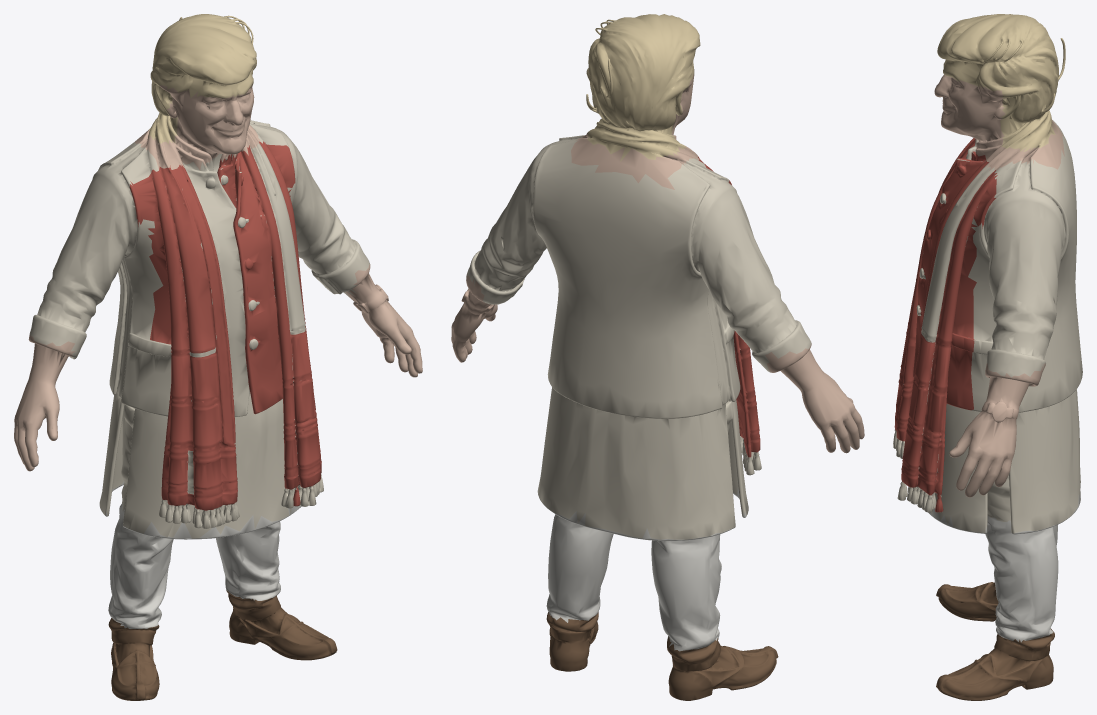
Rendered from heritage_guide.glb.
3 views of the same model, side by side, from view 1: azimuth 30°, elevation 25°; view 2: azimuth 150°, elevation 25°; view 3: azimuth 270°, elevation 25° (orthographic).
Parts seen in each view (by area): view 1: MIRAS_Heritage_Guide; view 2: MIRAS_Heritage_Guide; view 3: MIRAS_Heritage_Guide.
Boxes of the visible parts, x1,y1,x2,y2 form: MIRAS_Heritage_Guide: (14,14,422,700); MIRAS_Heritage_Guide: (451,14,864,700); MIRAS_Heritage_Guide: (893,14,1082,700).
Bounding box in the file's own units: 1.24 × 1.9 × 0.5171.
